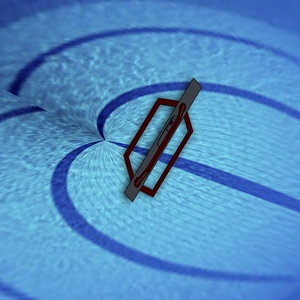submarine: (95, 62, 229, 212)
